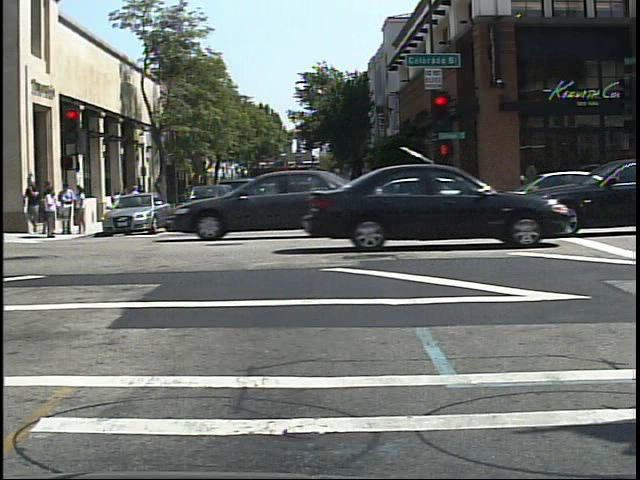person: (125, 181, 144, 219), (136, 181, 153, 220)
